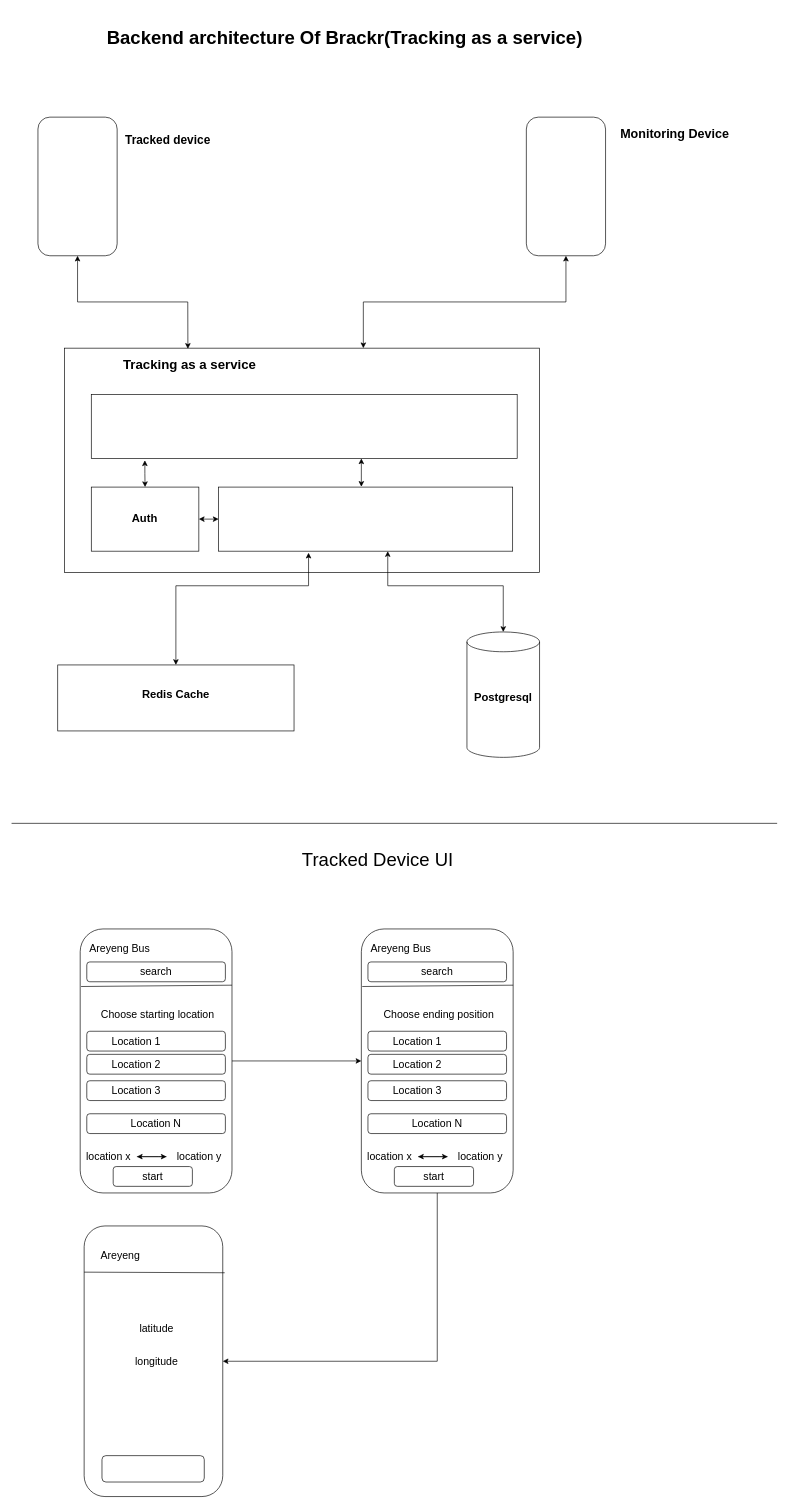
This 789x1508 diagram has some shape labels left out. Here are the shapes that lost their labels. From the top down, the centre of each, then its label:
At point 304,426: "Middleware Auth".
At point 365,518: "Business Logic Api".
At point 152,1468: "End".
